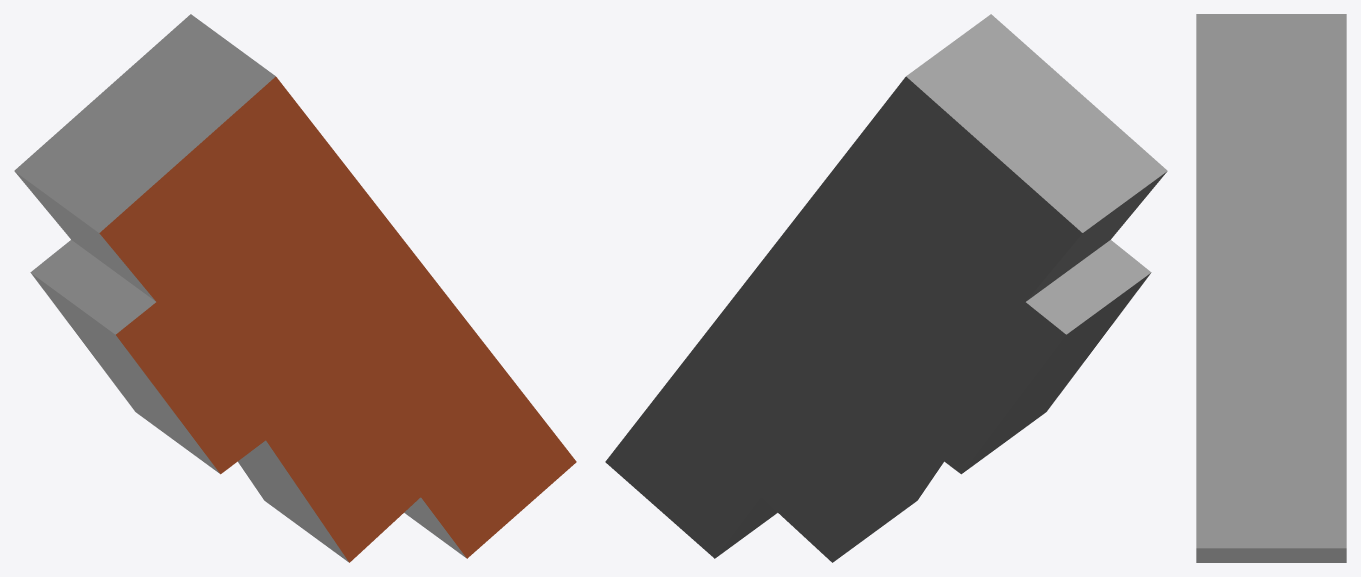
The model's file is construction_2120_assumed_A_Casa_h6m.obj.
3 views of the same model, side by side, from view 1: azimuth 30°, elevation 25°; view 2: azimuth 150°, elevation 25°; view 3: azimuth 270°, elevation 25° (orthographic). The views are drawn at different scales.
Parts seen in each view (by area): view 1: construction_2120_assumed_A_Casa; view 2: construction_2120_assumed_A_Casa; view 3: construction_2120_assumed_A_Casa.
Part boxes in pixels (<box>): construction_2120_assumed_A_Casa: <box>14,14,576,562</box>; construction_2120_assumed_A_Casa: <box>605,14,1167,562</box>; construction_2120_assumed_A_Casa: <box>1196,14,1346,562</box>.
Bounding box in the file's own units: 19.42 × 20.56 × 6.
